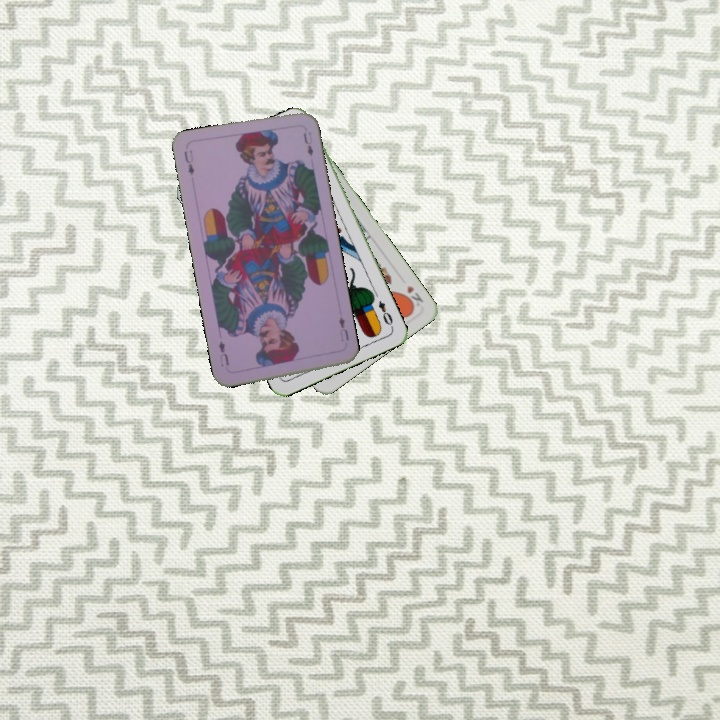EO: (374, 296, 396, 330)
EU: (335, 313, 352, 344), (180, 147, 197, 178)
HK: (399, 281, 426, 311)
